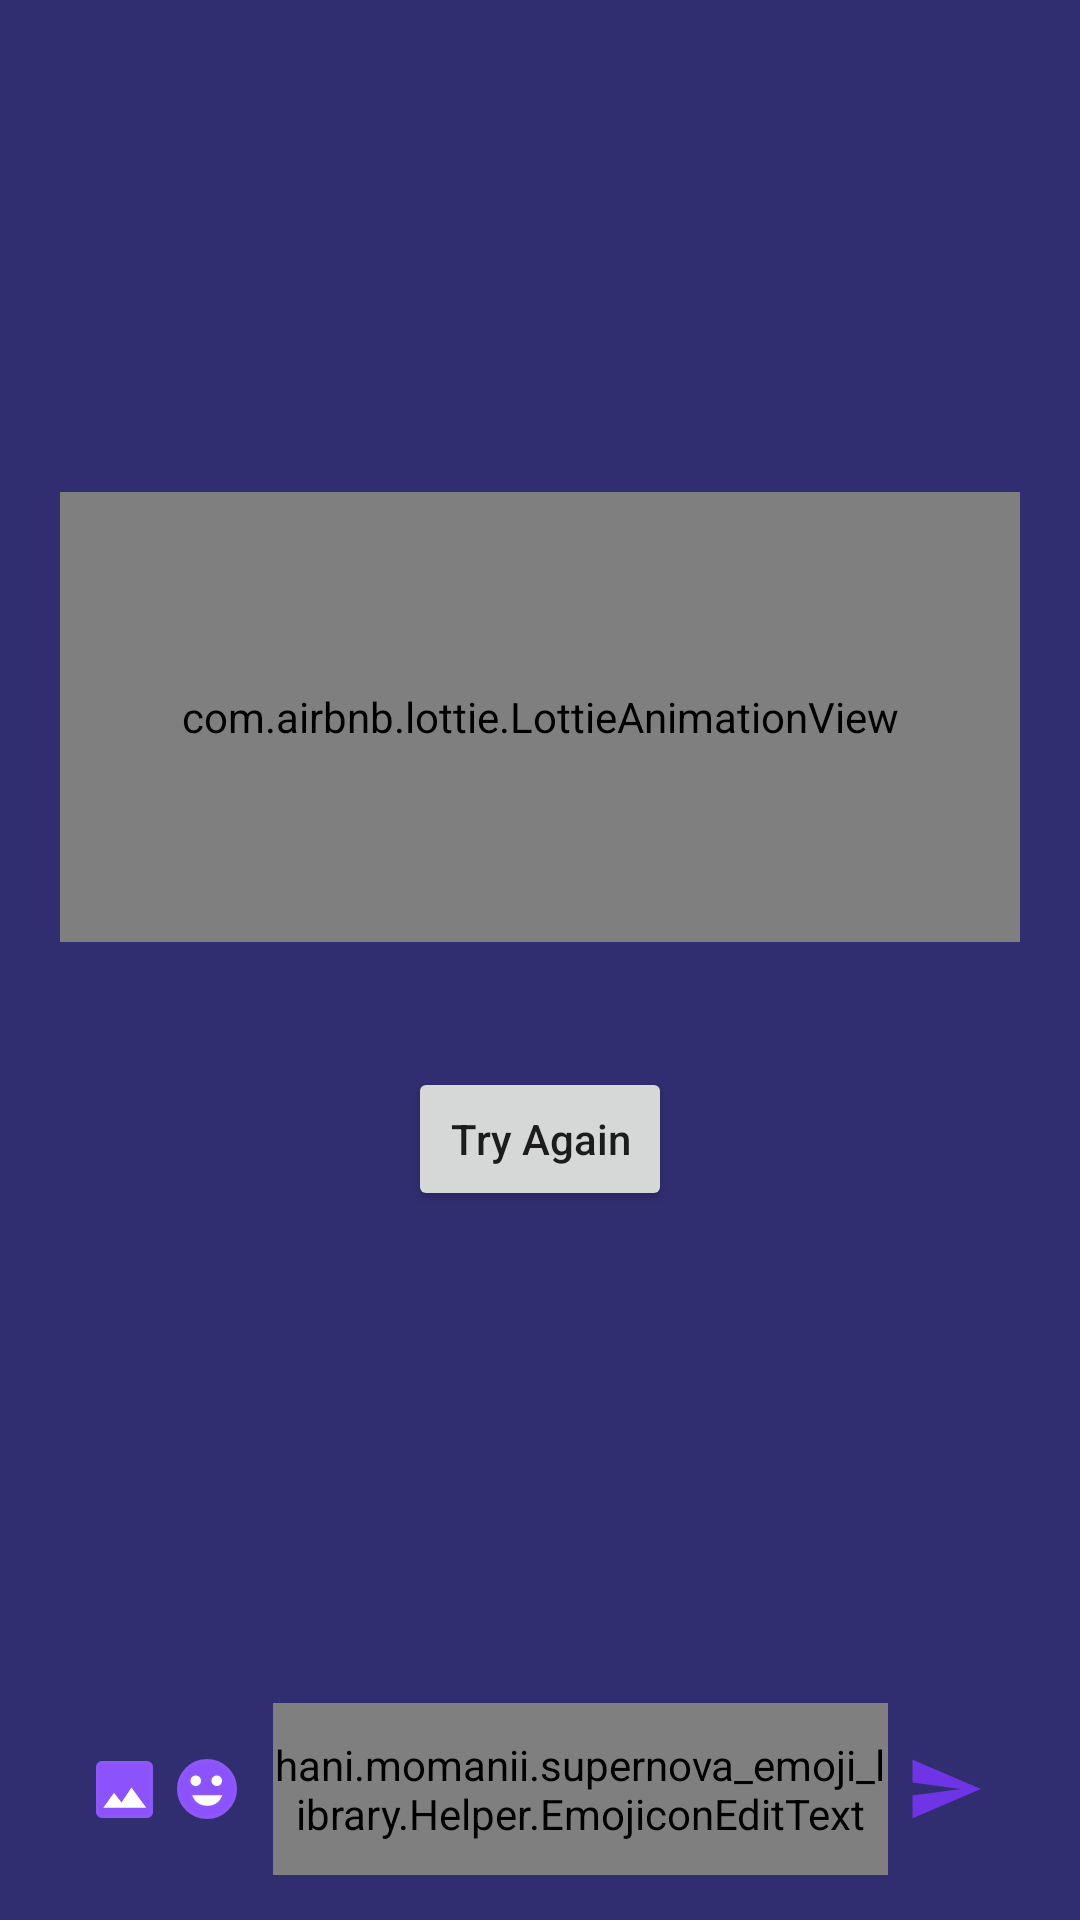

Screen size 1080px×1920px. Icon name, then its center in pixels as (x,y):
Send emoji: (207,1789)
Send image: (124,1789)
